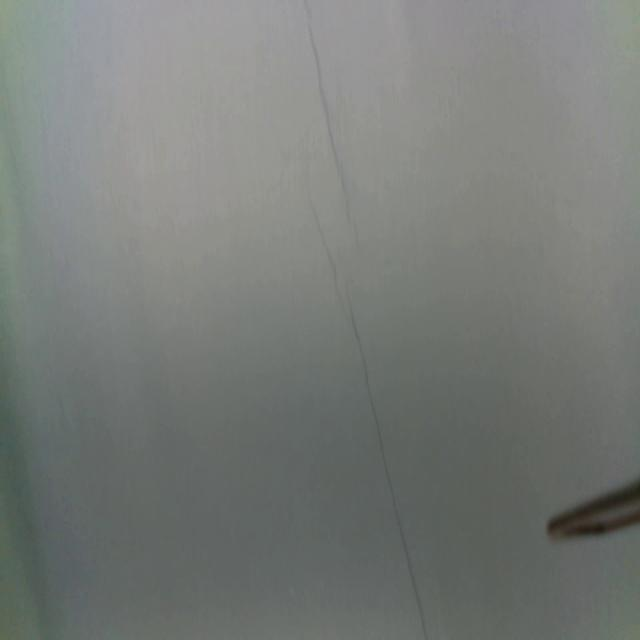crease: (312, 204, 426, 640), (303, 4, 353, 226)
